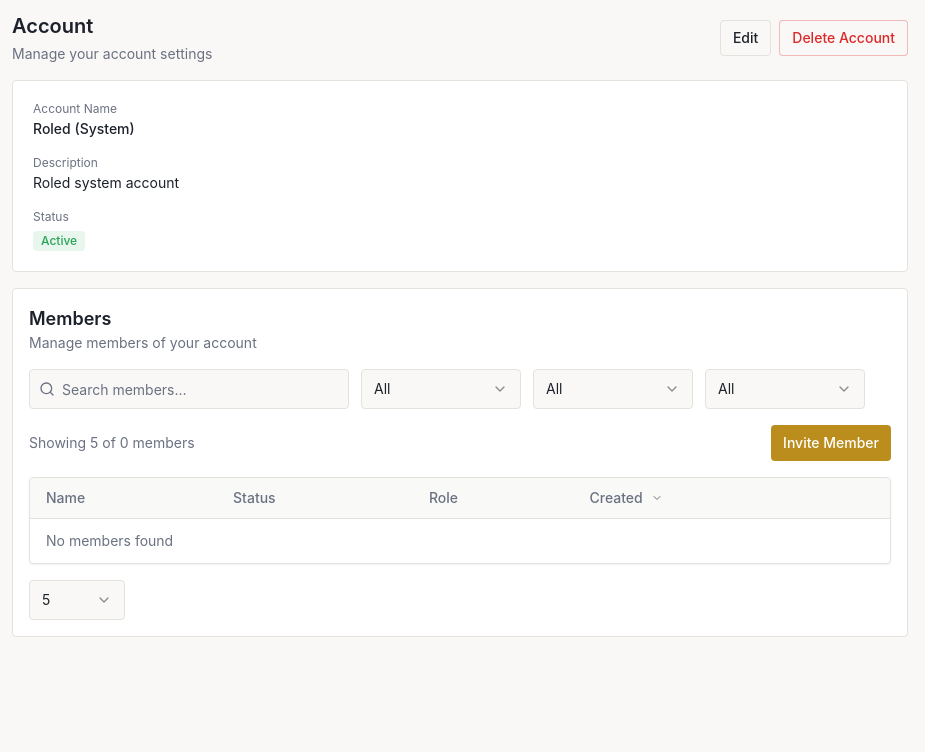
Test case: Account Page › updates account on save
The image size is (925, 752).
expect the text "Roled (System)" is shown: met, box [33, 120, 135, 137]
Enter edit mode
Click the button "Edit".
click(746, 38)  # box [720, 20, 771, 56]
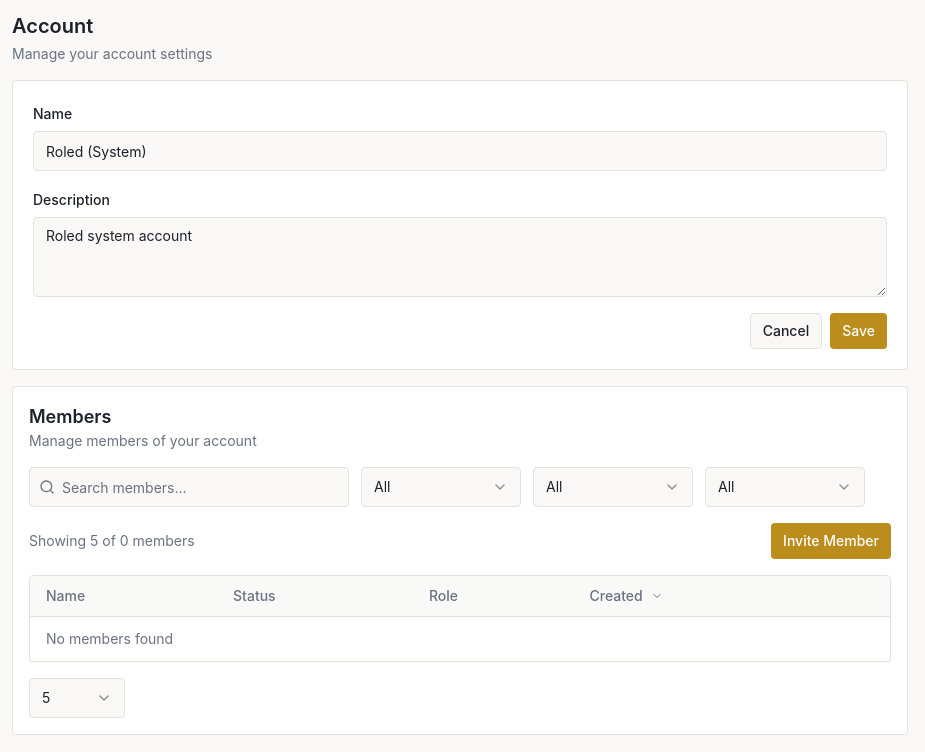
Replace the text in the field labelled "Name" with "New Name" at coordinates (460, 151), box [33, 131, 887, 171]
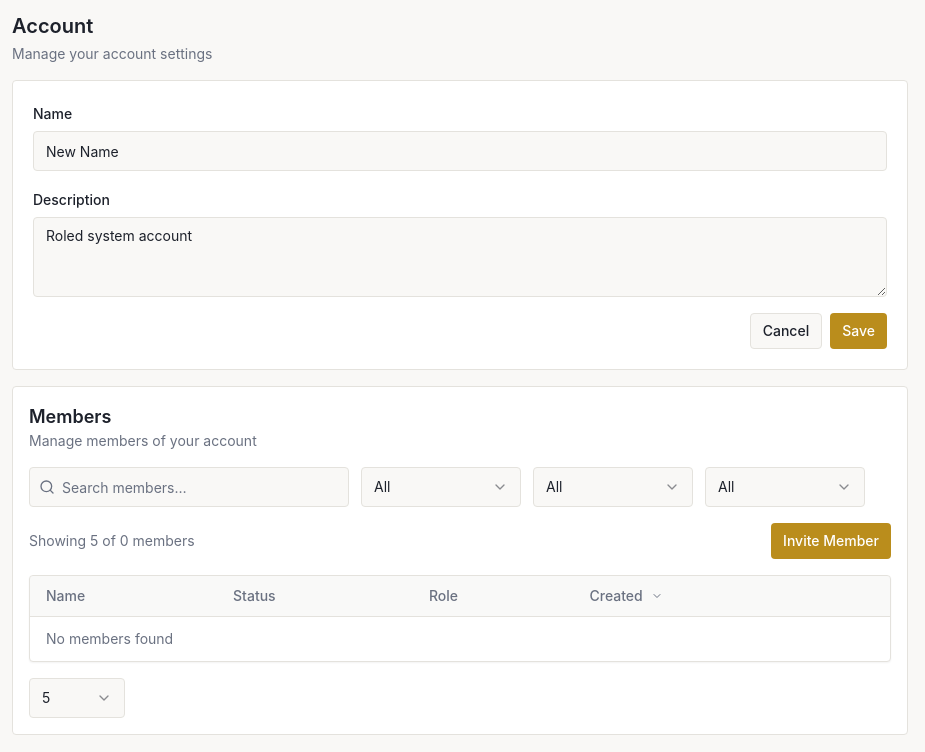
Replace the text in the text box labelled "Description" with "New desc" at coordinates (460, 257), box [33, 217, 887, 297]
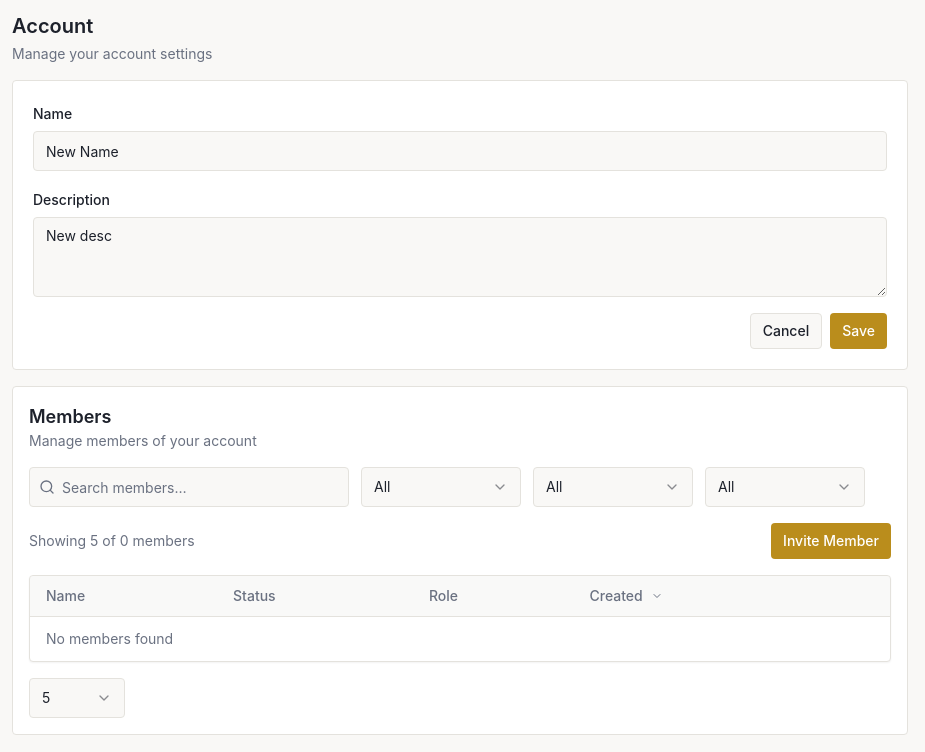
Click Save
Click the button "Save".
click(859, 331)  # box [830, 313, 887, 349]
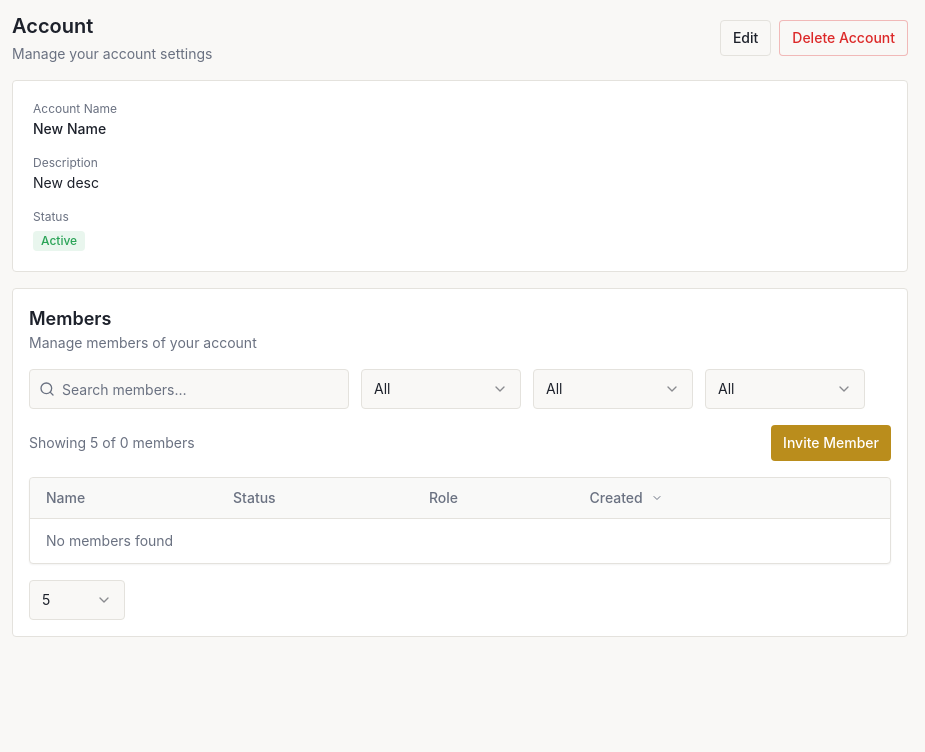
expect the text "New Name" is shown: met, box [33, 120, 106, 137]
expect the text "New desc" is shown: met, box [33, 174, 99, 191]
